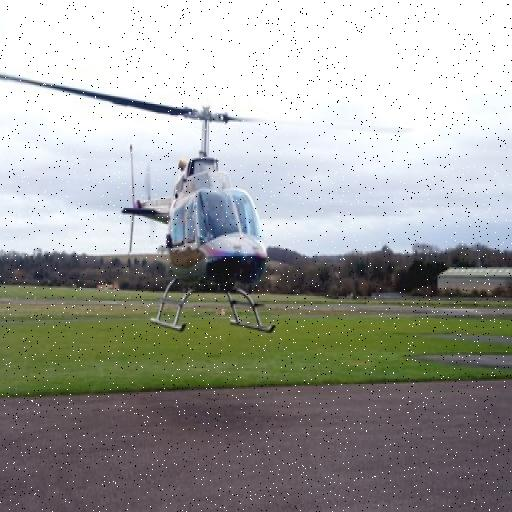helicopter: (97, 83, 324, 366)
